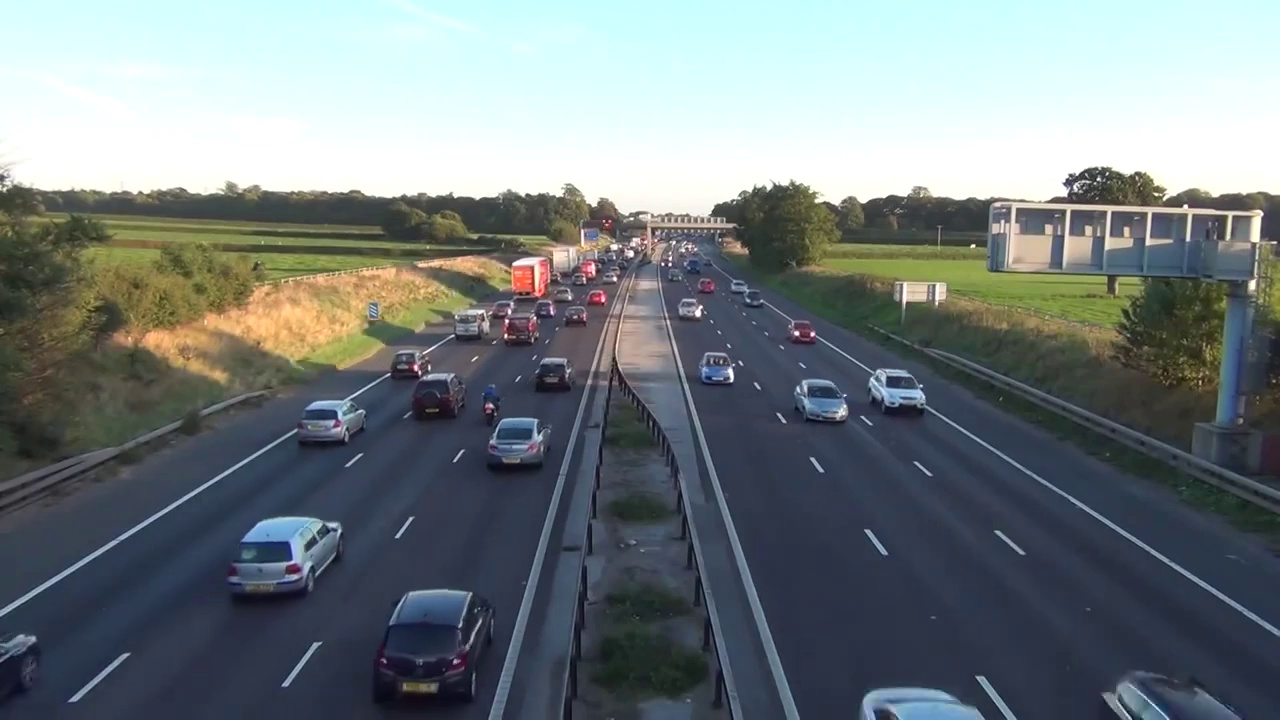bus: (370, 586, 527, 701), (217, 509, 351, 604), (1097, 665, 1247, 717), (486, 403, 561, 481), (851, 678, 989, 716), (289, 395, 372, 447), (789, 375, 859, 423), (410, 368, 464, 428), (865, 365, 928, 414), (2, 628, 40, 700), (384, 344, 436, 389), (533, 348, 570, 390), (696, 351, 737, 385), (784, 319, 818, 343), (677, 296, 706, 322), (563, 305, 591, 327), (490, 299, 518, 321), (743, 289, 766, 310), (533, 300, 557, 319), (585, 289, 607, 306), (553, 287, 575, 304), (729, 279, 750, 296), (697, 278, 715, 293), (667, 267, 683, 283), (571, 272, 587, 286), (602, 271, 616, 286), (703, 257, 715, 269), (550, 272, 562, 284), (660, 259, 674, 269), (607, 266, 621, 276), (614, 261, 627, 269), (594, 262, 602, 272)
car: (508, 256, 550, 302), (551, 245, 578, 278)
jeep: (479, 376, 504, 426)
lorry: (451, 309, 491, 343), (503, 311, 541, 345), (578, 255, 586, 269)
minibus: (580, 261, 597, 280), (686, 259, 701, 275)
